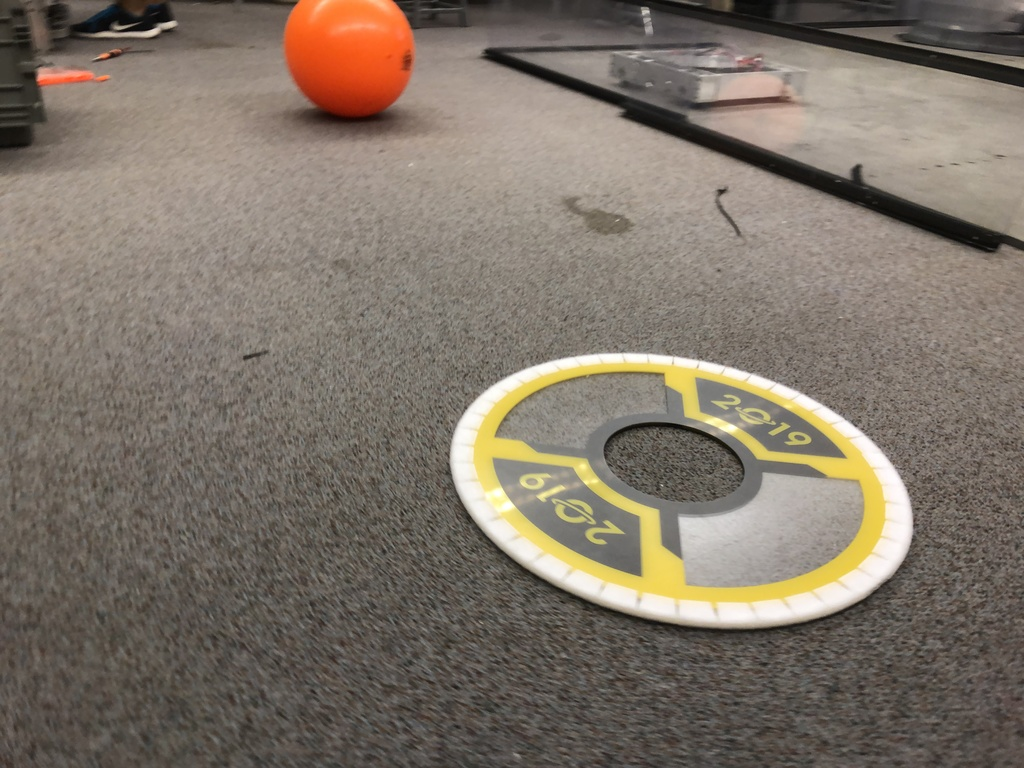hatch_panel: (428, 340, 938, 636)
